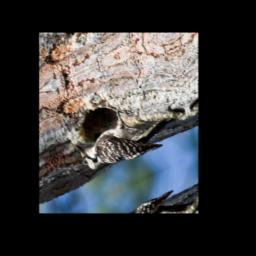Woodpecker: (70, 86, 183, 187)
